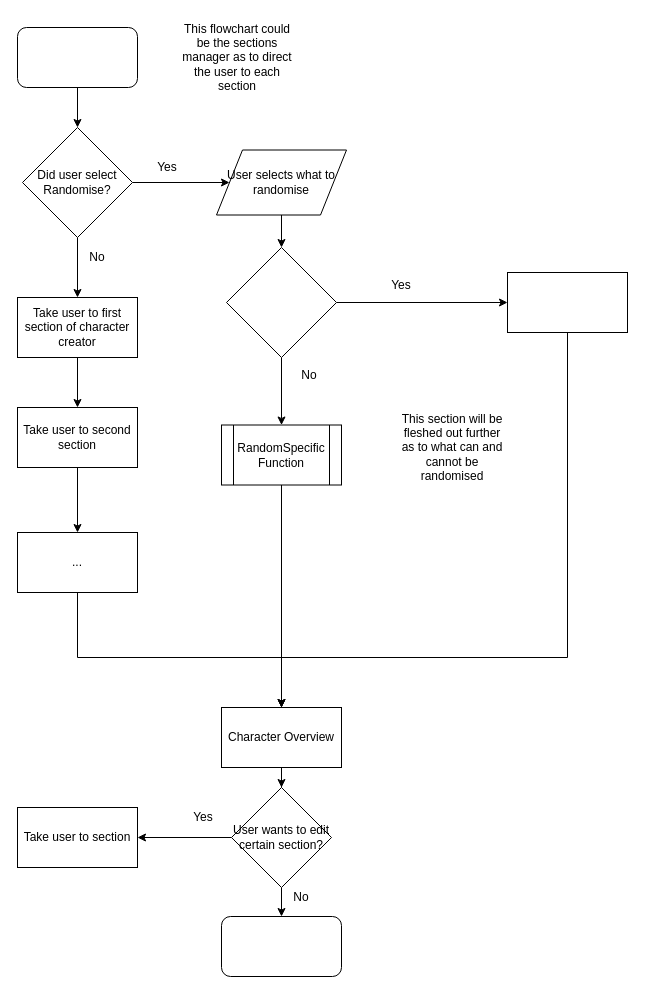
Image size: 645x994. Some labels were removed from this diagram. Each missing label, with the centre of its shape:
"BEGIN D&DCharacterCreator" belongs at (x=77, y=57).
"Did user select randomise all?" belongs at (x=281, y=302).
"END D&DCharacterCreator" belongs at (x=281, y=946).
"Randomise all parts of the character sheet" belongs at (x=567, y=302).
